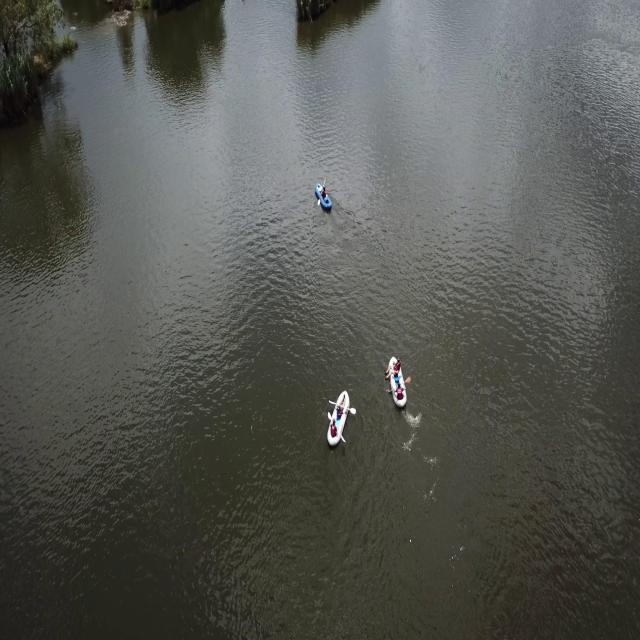kayak: (324, 386, 356, 452), (384, 353, 412, 414), (312, 178, 336, 218)
